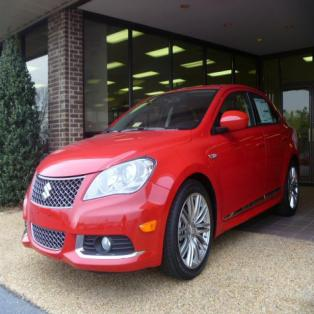Auto: (21, 82, 300, 280)
